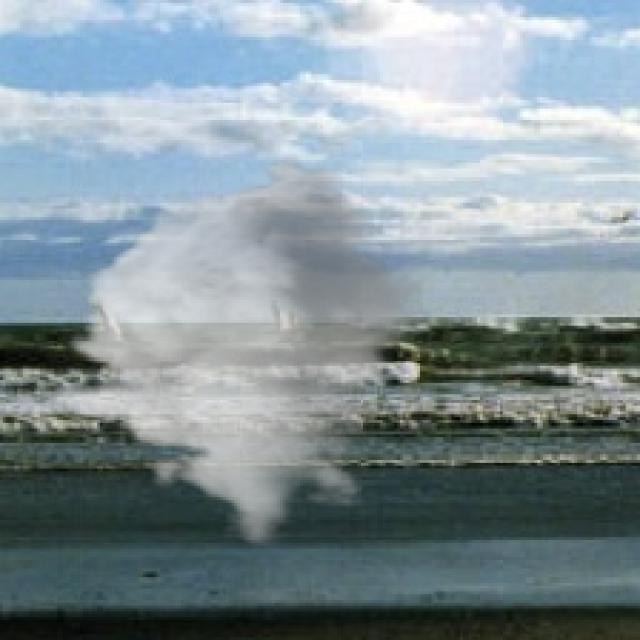smoke: (40, 154, 434, 546)
